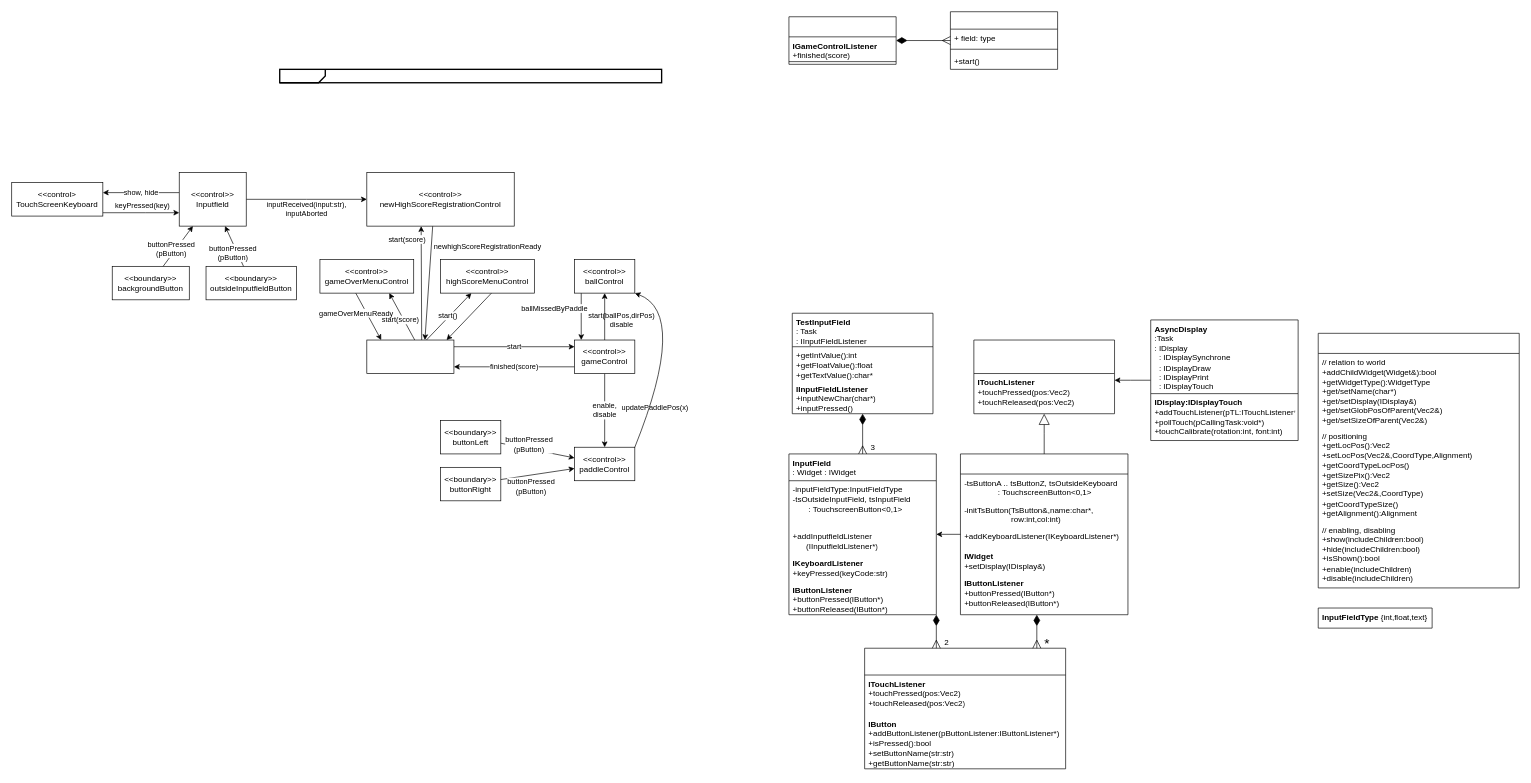
This 1531x783 diagram has some shape labels left out. Each missing label, with the box of its shape:
<<control>> mainMenuControl: (366, 339, 454, 374)
Game: (950, 11, 1058, 69)
IWidget: (1318, 333, 1519, 588)
MainMenu: (788, 16, 896, 64)
om Pong: (279, 68, 662, 83)
TouchScreenButton : Panel : Widget : IWidget: (864, 648, 1066, 769)
TouchScreenButtonGroup : Widget : IWidget : ITouchListener: (973, 339, 1115, 414)
TouchscreenKeyBoard: (960, 453, 1128, 615)
